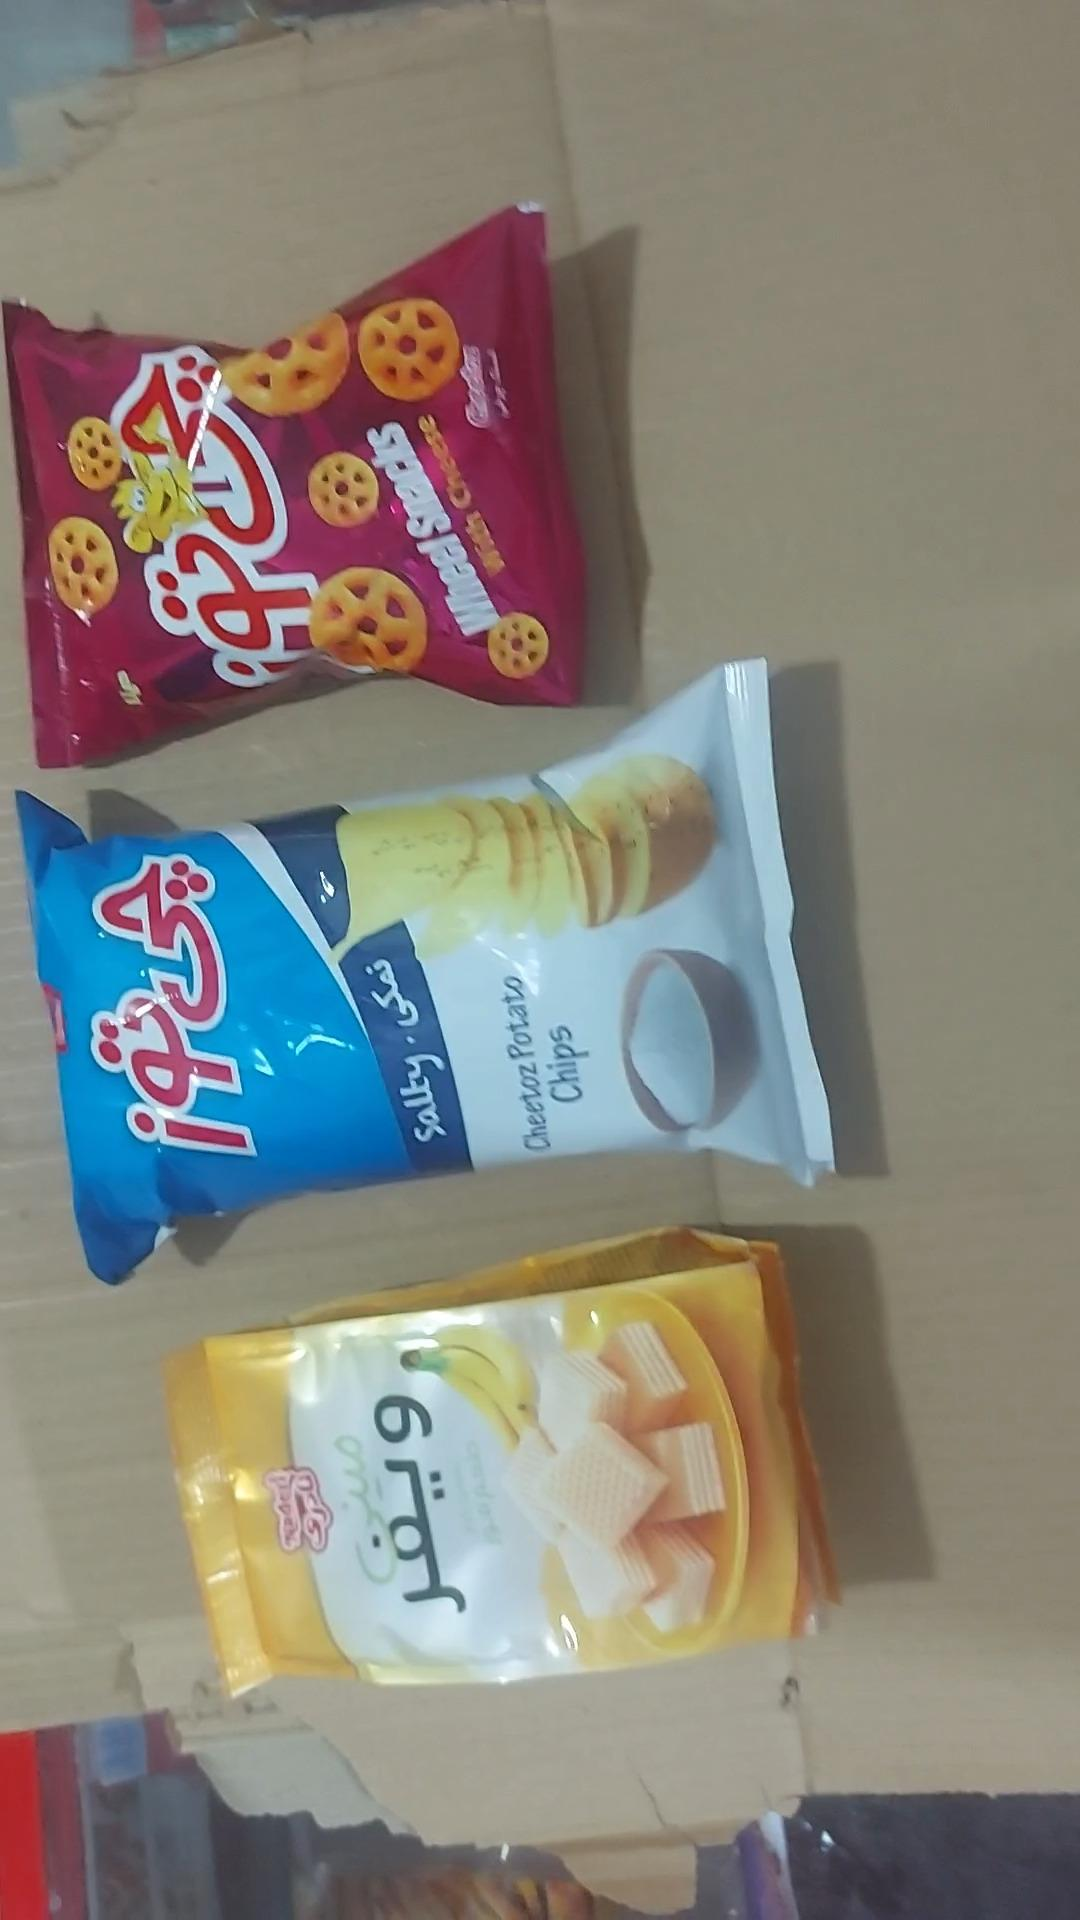Cheetoz salty chips: (15, 659, 835, 1288)
Cheetoz wheelsnack: (3, 208, 585, 775)
Naderi mini wafer: (164, 1226, 843, 1698)
